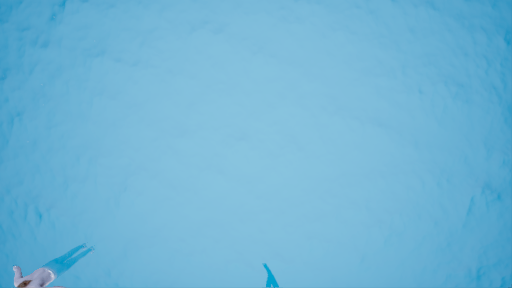person: (10, 245, 107, 288)
